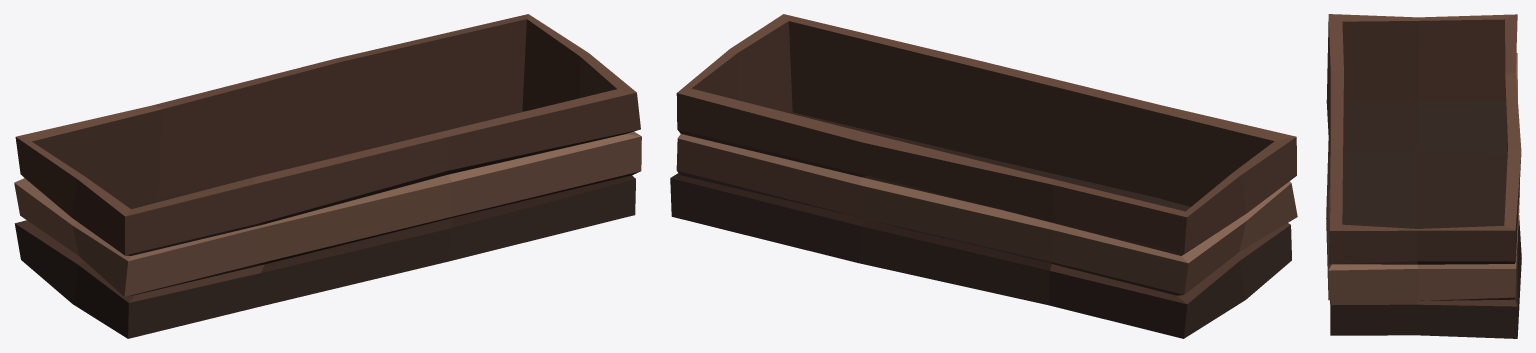
The model's file is CrateLong_02.glb.
3 views of the same model, side by side, from view 1: azimuth 30°, elevation 25°; view 2: azimuth 150°, elevation 25°; view 3: azimuth 270°, elevation 25° (orthographic). The views are drawn at different scales.
Parts seen in each view (by area): view 1: CrateLong_02; view 2: CrateLong_02; view 3: CrateLong_02.
Part boxes in pixels (x1,y1,x2,y2): CrateLong_02: (14, 14, 641, 338); CrateLong_02: (670, 14, 1297, 338); CrateLong_02: (1326, 14, 1521, 338).
Size of what is drawn, in the model's own units: 1.99 by 0.4609 by 0.752.
1 material, 1 textured.
